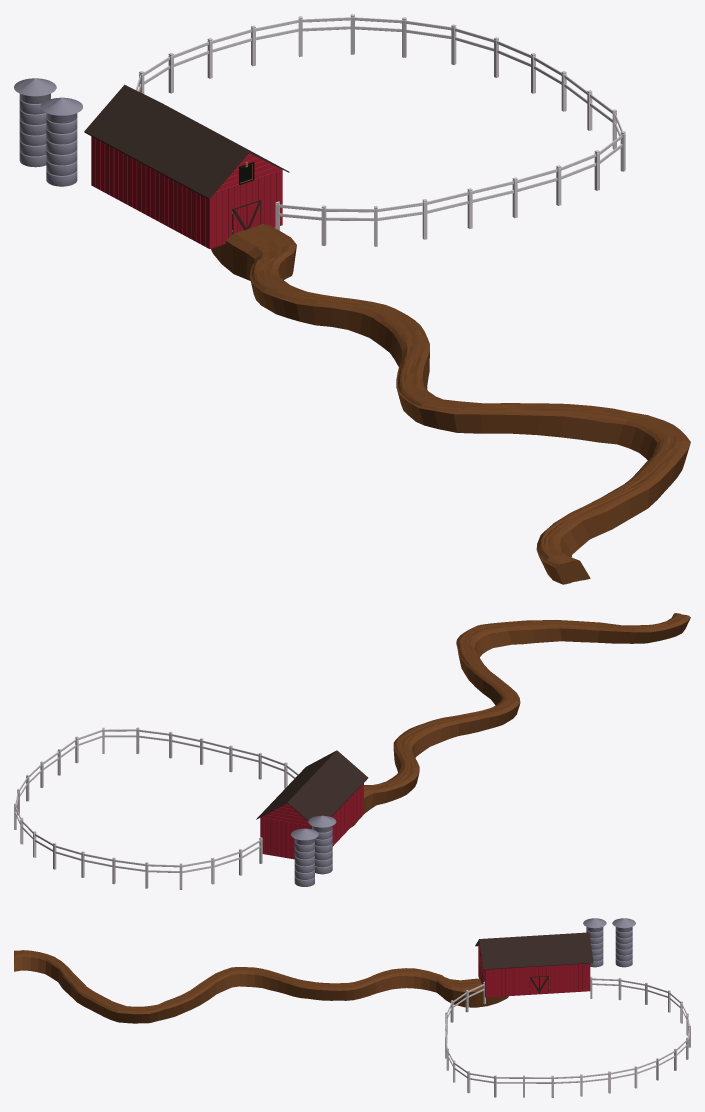
Rendered from farm_compressed.glb.
3 views of the same model, one above another, from view 1: azimuth 30°, elevation 25°; view 2: azimuth 150°, elevation 25°; view 3: azimuth 270°, elevation 25° (orthographic). The views are drawn at different scales.
Visible parts, largest first — view 1: Cube.252, Cube.170, Cube.179, Cylinder.008; view 2: Cube.252, Cube.170, Cube.179, Cylinder.008; view 3: Cube.252, Cube.170, Cube.179, Cylinder.008.
Part boxes in pixels (left/top/right/bottom): Cube.252: left=211, top=223, right=690, bottom=584; Cube.170: left=84, top=84, right=289, bottom=248; Cube.179: left=135, top=14, right=625, bottom=246; Cylinder.008: left=14, top=78, right=82, bottom=186; Cube.252: left=351, top=613, right=690, bottom=827; Cube.170: left=256, top=750, right=368, bottom=859; Cube.179: left=14, top=727, right=298, bottom=889; Cylinder.008: left=291, top=815, right=336, bottom=886; Cube.252: left=14, top=950, right=508, bottom=1023; Cube.170: left=475, top=932, right=593, bottom=997; Cube.179: left=445, top=976, right=690, bottom=1097; Cylinder.008: left=583, top=918, right=635, bottom=967.
Bounding box in the file's own units: 14.39 × 3.17 × 30.49.
